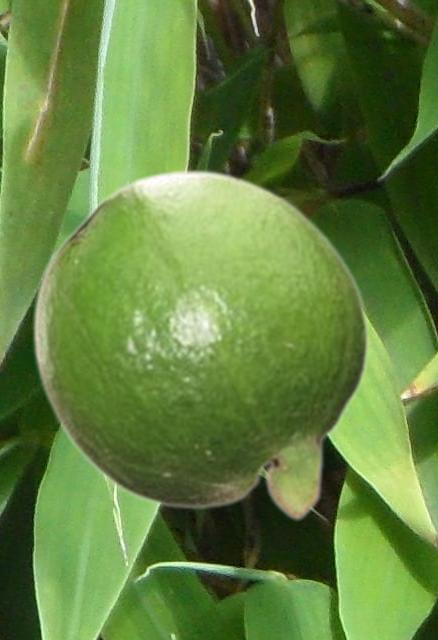guava: (30, 167, 369, 522)
